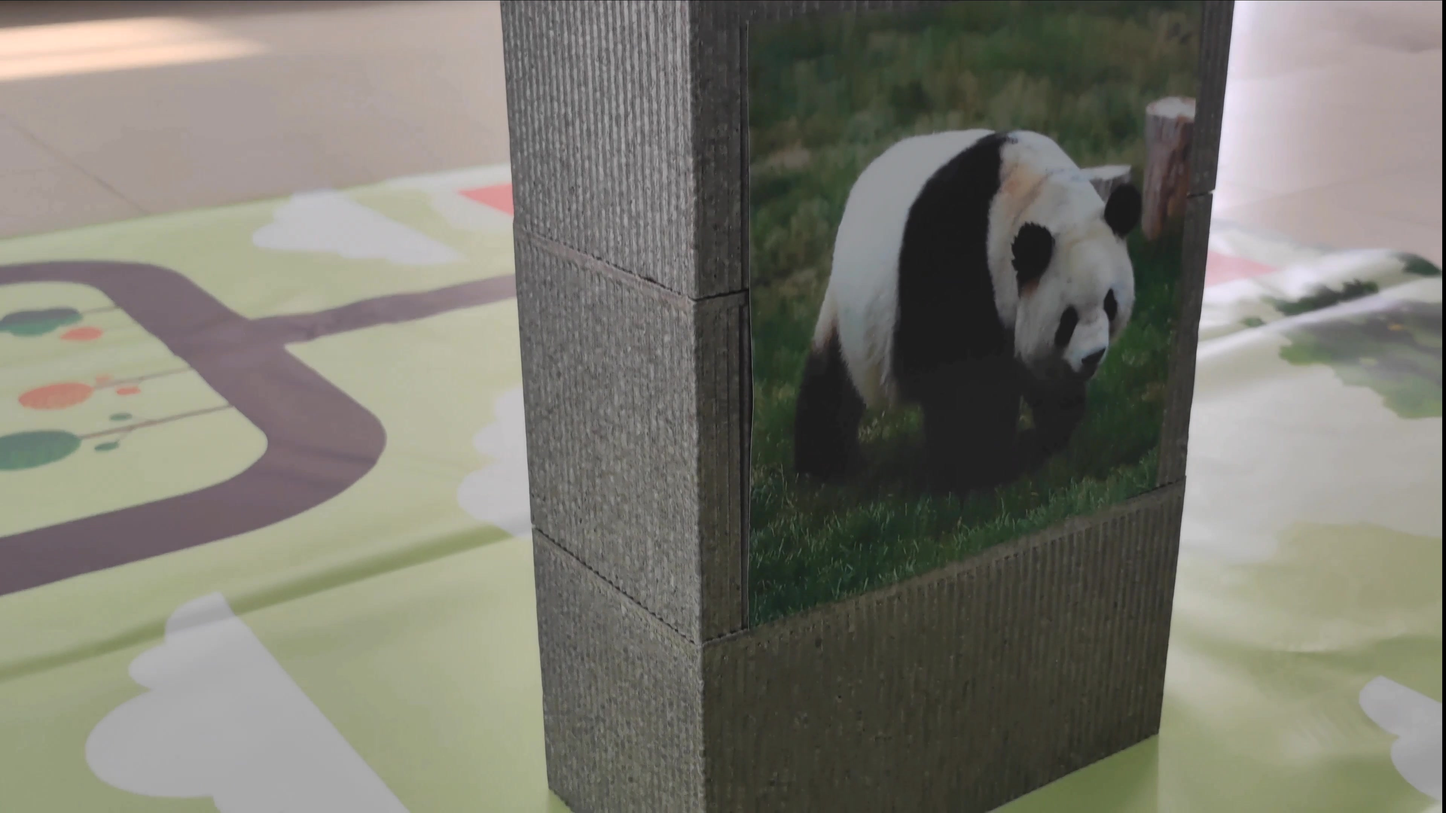panda: (765, 102, 1153, 493)
